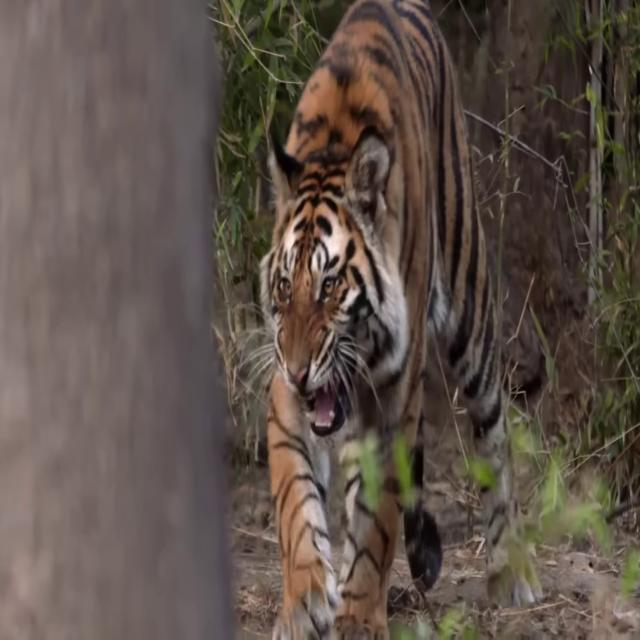tiger: (259, 1, 542, 640)
